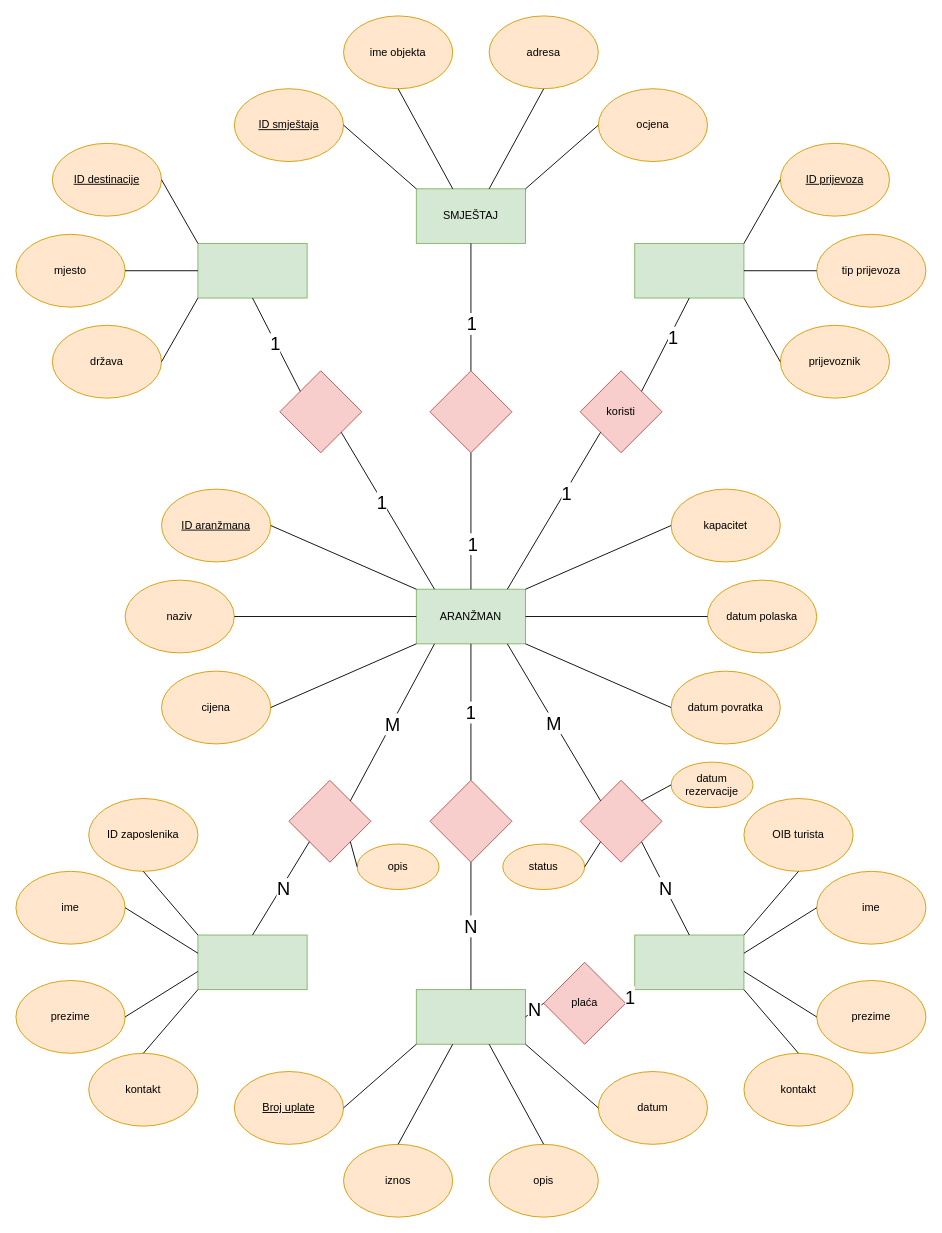
Some shapes in this 942 by 1233 pixel diagram are drawn without their labels. Here are the shapes that lost their labels. From the top down, the box of each, then its label:
(197, 243, 307, 298): DESTINACIJA
(634, 243, 744, 298): PRIJEVOZ
(279, 370, 362, 453): ima
(429, 370, 512, 453): sadrži
(288, 779, 371, 862): vrši
(429, 779, 512, 862): za
(579, 779, 662, 862): kupuje
(197, 934, 307, 990): ZAPOSLENIK
(634, 934, 744, 990): TURIST
(415, 989, 526, 1044): UPLATA
